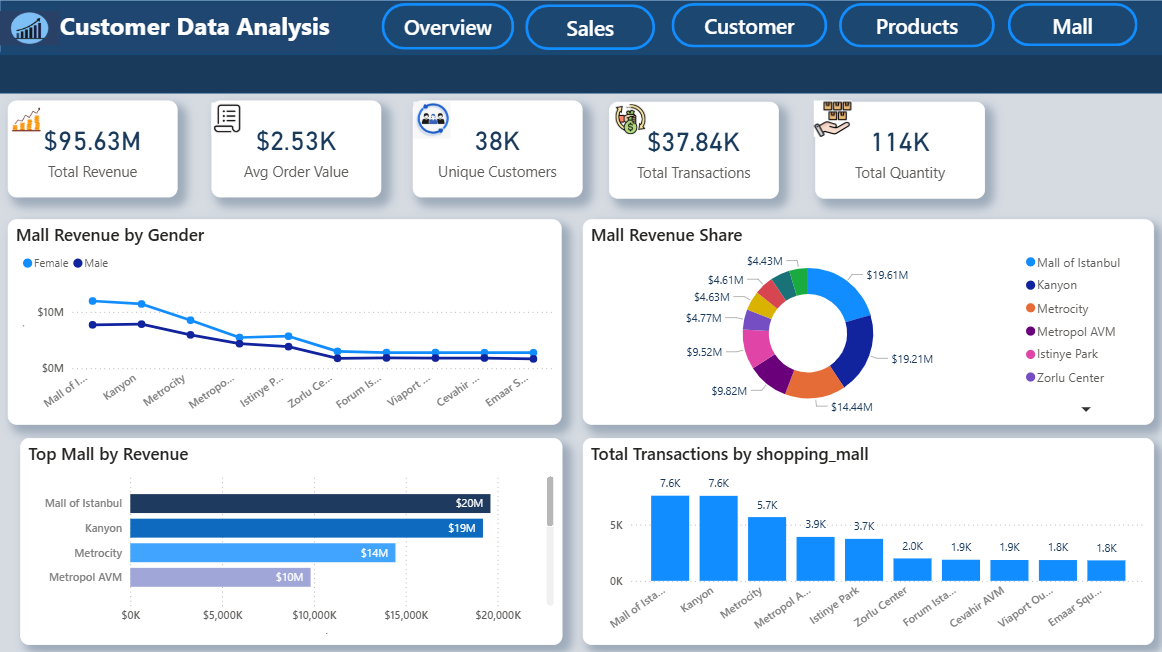

What the dashboard file says about the page in this screenshot:
{"tool":"powerbi","page":{"name":"Mall","canvas":[1280,720],"ordinal":4},"visuals":[{"type":"shape","box":[0,59.6,1280.3,45.7],"z":0},{"type":"shape","box":[0,1.3,1280.3,61.8],"z":1000},{"type":"image","box":[10.2,114.2,34.3,36.8],"z":2000},{"type":"card","fields":{"Values":["customer_data_analysis.Total Revenue"]},"box":[10,112.5,186.2,106.2],"z":3000},{"type":"card","fields":{"Values":["customer_data_analysis.Avg Order Value"]},"box":[233.8,112.5,186.2,106.2],"z":4000},{"type":"card","fields":{"Values":["customer_data_analysis.Unique Customers"]},"box":[453.8,112.5,186.2,106.2],"z":5000},{"type":"card","fields":{"Values":["customer_data_analysis.Total Transactions"]},"box":[670,113.8,186.2,106.2],"z":6000},{"type":"card","fields":{"Values":["customer_data_analysis.Total Quantity"]},"box":[895.8,114.2,186.5,106.6],"z":7000},{"type":"donutChart","title":"Mall Revenue Share","fields":{"Y":["customer_data_analysis.Total Revenue"],"Category":["customer_data_analysis.shopping_mall"]},"box":[640.8,242.3,626.8,225.9],"z":8000},{"type":"lineChart","title":"Mall Revenue by Gender","fields":{"Y":["customer_data_analysis.Total Revenue"],"Category":["customer_data_analysis.shopping_mall"],"Series":["customer_data_analysis.gender"]},"box":[10.2,242.3,607.8,225.9],"z":9000},{"type":"barChart","title":"Top Mall by Revenue","fields":{"Category":["customer_data_analysis.shopping_mall"],"Y":["customer_data_analysis.Total Revenue"]},"box":[22.8,483.4,595.1,227.1],"z":10000},{"type":"columnChart","fields":{"Category":["customer_data_analysis.shopping_mall"],"Y":["customer_data_analysis.Total Transactions"]},"box":[641,483,627,227],"z":11000},{"type":"textbox","box":[62.2,6.3,308.3,54.6],"z":12000},{"type":"image","box":[0,4.9,67.3,55],"z":13000},{"type":"image","box":[12.5,112.5,35,41.2],"z":14000},{"type":"image","box":[233.3,112.5,35.7,39.8],"z":15000},{"type":"image","box":[454.2,113.9,42.5,41.2],"z":16000},{"type":"image","box":[669.6,116.6,46.7,32.9],"z":17000},{"type":"image","box":[886.5,112.5,57.6,39.8],"z":18000},{"type":"actionButton","title":"Overview","box":[419.4,5.6,145.8,51.4],"z":19000},{"type":"actionButton","title":"Sales","box":[578.4,6.8,142.6,50.2],"z":20000},{"type":"actionButton","title":"Customer","box":[738.6,5.4,171.1,48.9],"z":21000},{"type":"actionButton","title":"Customer","box":[921.9,5.4,171.1,48.9],"z":22000},{"type":"actionButton","box":[1107.9,5.4,142.6,47.5],"z":23000}]}

Visuals, with their boxes in screenshot pixels (x1, y1, x2, y2), scaled from the page's 1280x720 canvas onto the 1162x652 screenshot:
shape: (left=0, top=54, right=1161, bottom=95)
shape: (left=0, top=1, right=1161, bottom=57)
image: (left=9, top=103, right=40, bottom=137)
card - customer_data_analysis.Total Revenue: (left=9, top=102, right=178, bottom=198)
card - customer_data_analysis.Avg Order Value: (left=212, top=102, right=381, bottom=198)
card - customer_data_analysis.Unique Customers: (left=412, top=102, right=581, bottom=198)
card - customer_data_analysis.Total Transactions: (left=608, top=103, right=777, bottom=199)
card - customer_data_analysis.Total Quantity: (left=813, top=103, right=983, bottom=200)
"Mall Revenue Share" donutChart: (left=582, top=219, right=1151, bottom=424)
"Mall Revenue by Gender" lineChart: (left=9, top=219, right=561, bottom=424)
"Top Mall by Revenue" barChart: (left=21, top=438, right=561, bottom=643)
columnChart - customer_data_analysis.shopping_mall x customer_data_analysis.Total Transactions: (left=582, top=437, right=1151, bottom=643)
textbox: (left=56, top=6, right=336, bottom=55)
image: (left=0, top=4, right=61, bottom=54)
image: (left=11, top=102, right=43, bottom=139)
image: (left=212, top=102, right=244, bottom=138)
image: (left=412, top=103, right=451, bottom=140)
image: (left=608, top=106, right=650, bottom=135)
image: (left=805, top=102, right=857, bottom=138)
"Overview" actionButton: (left=381, top=5, right=513, bottom=52)
"Sales" actionButton: (left=525, top=6, right=655, bottom=52)
"Customer" actionButton: (left=671, top=5, right=826, bottom=49)
"Customer" actionButton: (left=837, top=5, right=992, bottom=49)
actionButton: (left=1006, top=5, right=1135, bottom=48)
